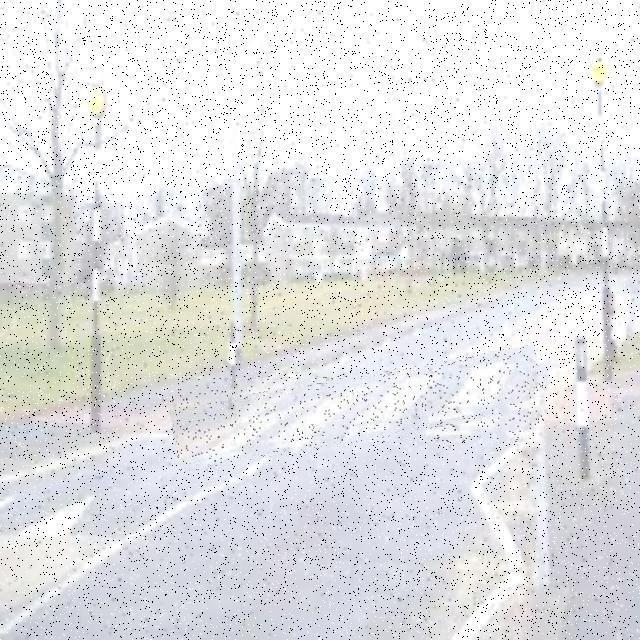crosswalk: (170, 360, 546, 458)
